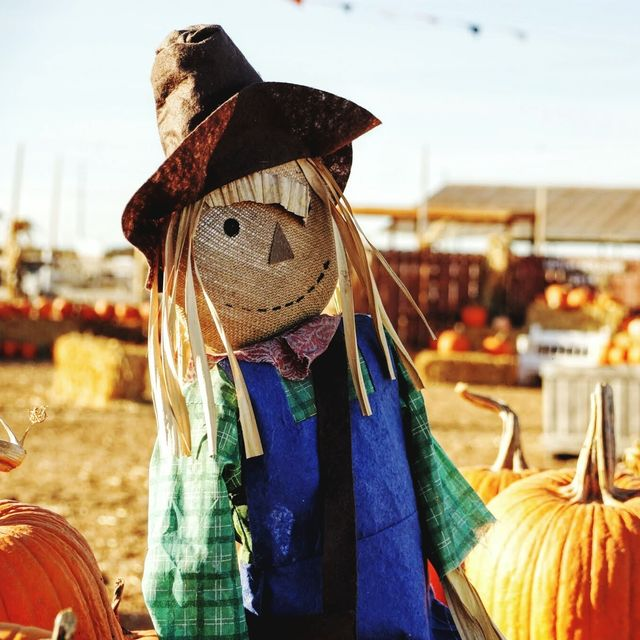person-like: (114, 19, 498, 639)
